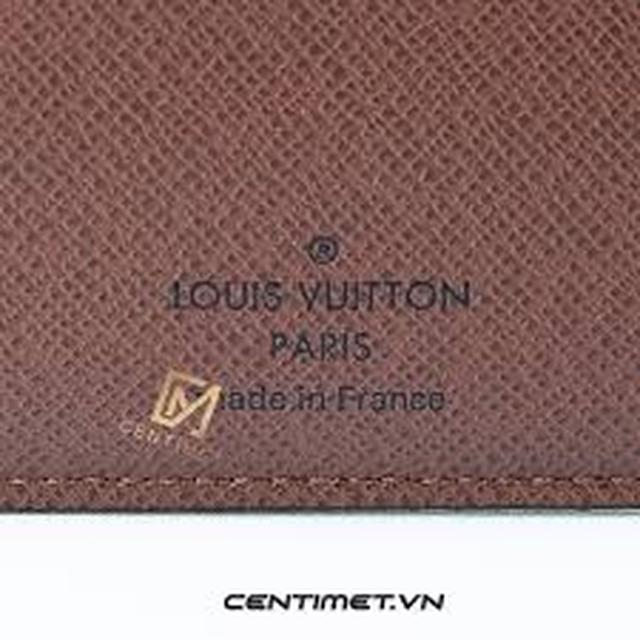wallet: (0, 16, 632, 640)
